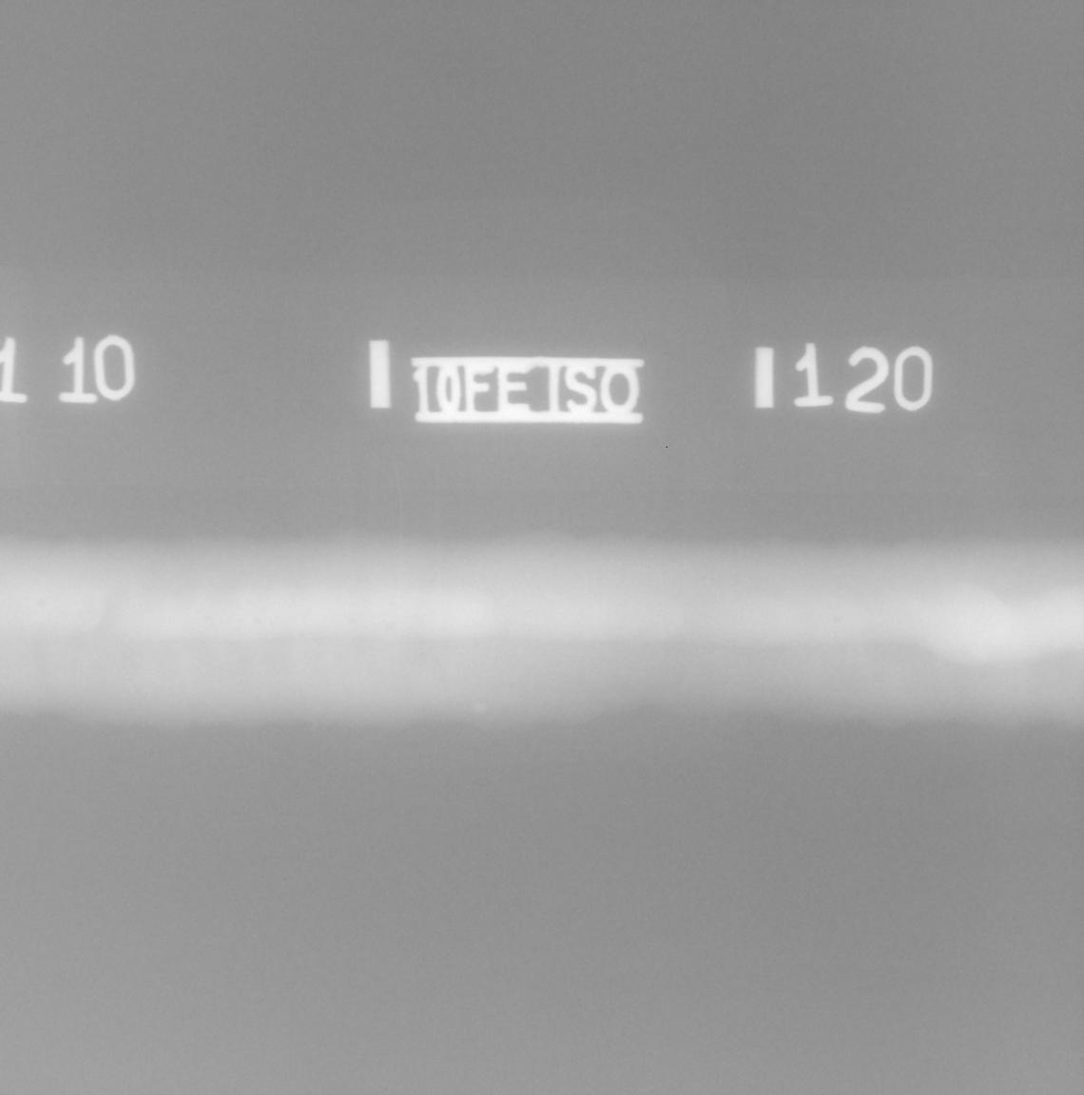Inclusion: (834, 617, 842, 625), (385, 624, 393, 631), (350, 619, 355, 625)
Pore/Porosity: (37, 599, 45, 606), (206, 616, 212, 620), (254, 618, 259, 622)
